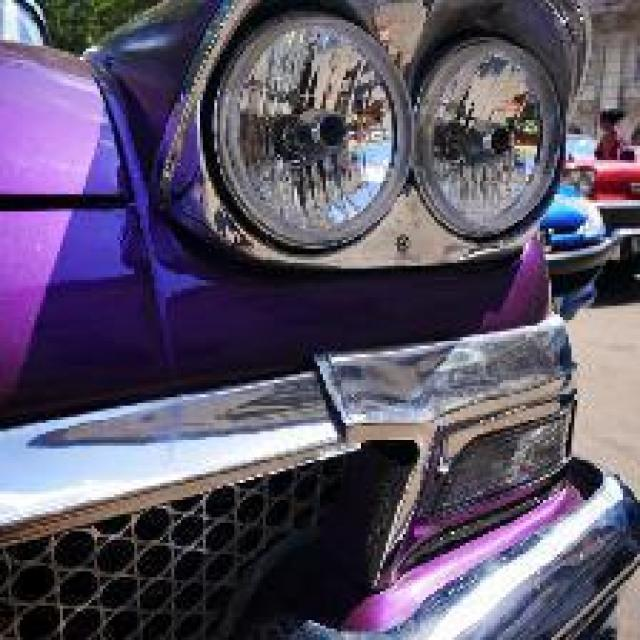damaged: (383, 317, 614, 637)
